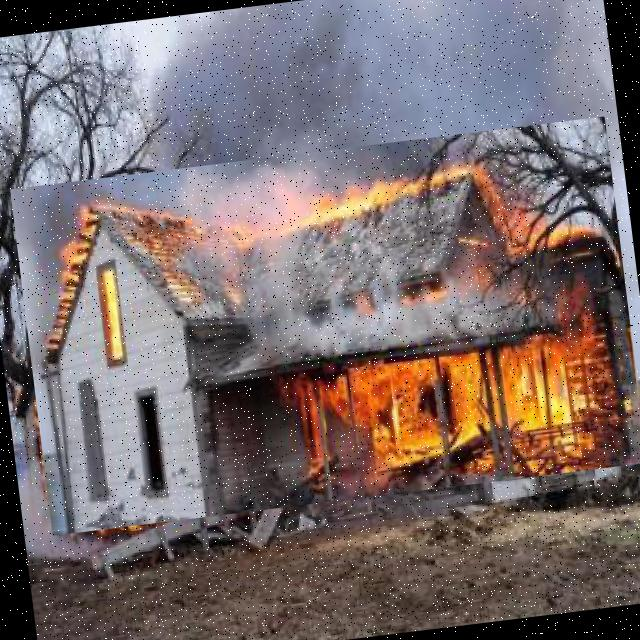fire: (9, 116, 640, 535)
